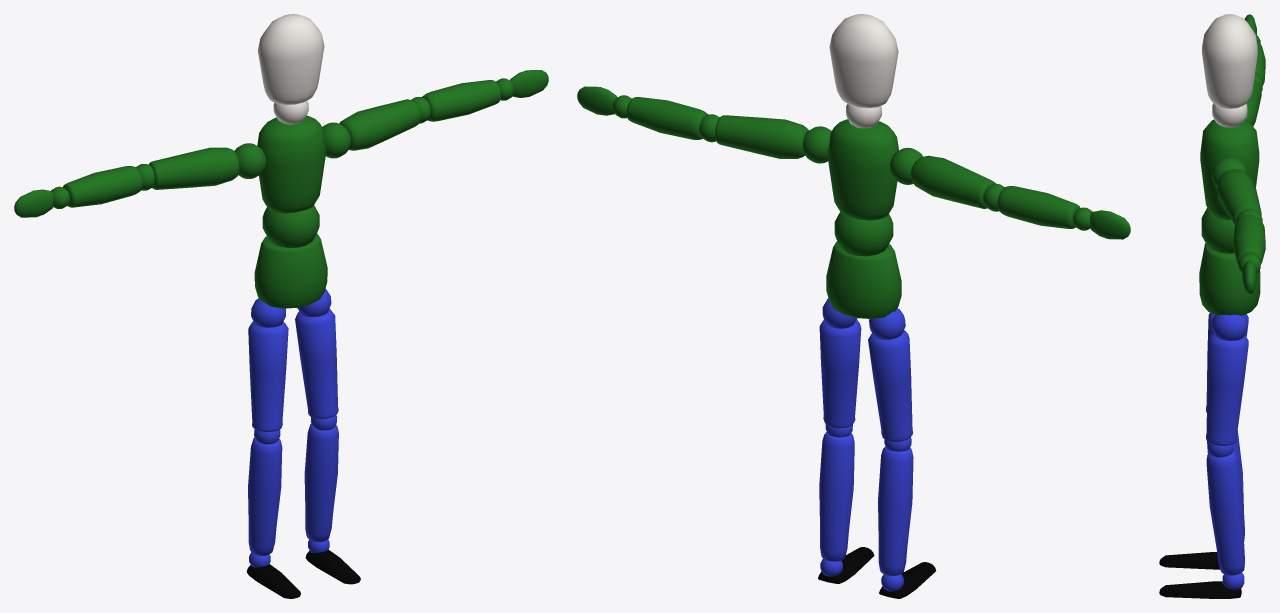
File: human.dae
The picture shows the model from 3 angles, left to right: view 1: azimuth 30°, elevation 25°; view 2: azimuth 150°, elevation 25°; view 3: azimuth 270°, elevation 25°; orthographic projection. The views are drawn at different scales.
Parts seen in each view (by area): view 1: Upper_Body, Head, Figure, Right_Thigh, Left_Thigh, Right_Shin, Left_Shin, Right_Upper_Arm, Left_Upper_Arm, Right_Lower_Arm, Left_Lower_Arm, Joint (+6 smaller); view 2: Upper_Body, Head, Figure, Right_Shin, Left_Shin, Right_Thigh, Left_Thigh, Left_Upper_Arm, Right_Upper_Arm, Right_Lower_Arm, Left_Lower_Arm, Joint (+6 smaller); view 3: Head, Left_Thigh, Left_Shin, Upper_Body, Figure, Left_Joint (×5), Left_Upper_Arm, Left_Lower_Arm, Left_Foot, Joint, Right_Foot, Neck (+5 smaller).
Boxes of the visible parts, box(x1,y1,x2,y2) form: Upper_Body: box(257, 115, 326, 213); Head: box(257, 14, 324, 105); Figure: box(254, 233, 327, 308); Right_Thigh: box(248, 321, 288, 431); Left_Thigh: box(295, 308, 338, 419); Right_Shin: box(248, 437, 282, 555); Left_Shin: box(304, 423, 338, 542); Right_Upper_Arm: box(148, 147, 239, 189); Left_Upper_Arm: box(339, 99, 420, 150); Right_Lower_Arm: box(63, 166, 142, 207); Left_Lower_Arm: box(422, 80, 500, 121); Joint: box(262, 205, 319, 247); Upper_Body: box(827, 119, 898, 220); Head: box(829, 14, 898, 108); Figure: box(826, 241, 901, 318); Right_Shin: box(878, 446, 913, 575); Left_Shin: box(819, 432, 854, 561); Right_Thigh: box(868, 330, 912, 441); Left_Thigh: box(819, 319, 861, 428); Left_Upper_Arm: box(715, 115, 808, 158); Right_Upper_Arm: box(911, 155, 995, 208); Right_Lower_Arm: box(997, 186, 1080, 228); Left_Lower_Arm: box(626, 97, 708, 139); Joint: box(834, 212, 893, 256); Head: box(1202, 14, 1257, 109); Left_Thigh: box(1206, 333, 1248, 445); Left_Shin: box(1206, 450, 1244, 575); Upper_Body: box(1200, 119, 1259, 219); Figure: box(1199, 243, 1260, 315); Left_Joint (×5): box(1207, 157, 1260, 589); Left_Upper_Arm: box(1217, 169, 1261, 225); Left_Lower_Arm: box(1233, 214, 1265, 264); Left_Foot: box(1159, 581, 1241, 598); Joint: box(1201, 207, 1234, 253); Right_Foot: box(1159, 552, 1220, 569); Neck: box(1212, 103, 1247, 127).
Bounding box in the file's own units: 1.88 × 1.85 × 0.318.
